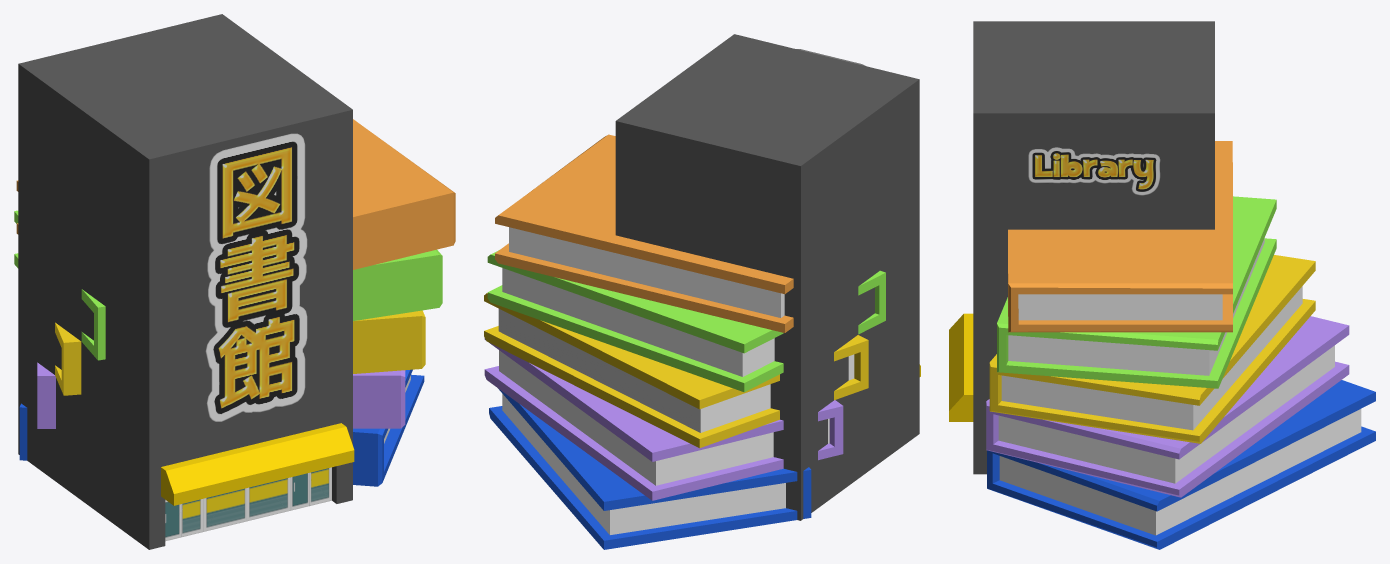
File: Town_Bld_Library_A.FBX
3 views of the same model, side by side, from view 1: azimuth 30°, elevation 25°; view 2: azimuth 150°, elevation 25°; view 3: azimuth 270°, elevation 25° (orthographic). The views are drawn at different scales.
Visible parts, largest first — view 1: Town_Bld_Library_A; view 2: Town_Bld_Library_A; view 3: Town_Bld_Library_A.
Part boxes in pixels (box(x1,y1,x2,y2)): Town_Bld_Library_A: box(14, 14, 455, 549); Town_Bld_Library_A: box(484, 34, 920, 549); Town_Bld_Library_A: box(949, 21, 1375, 549).
Size of the model in its own units: 1173 by 1199 by 1206.
